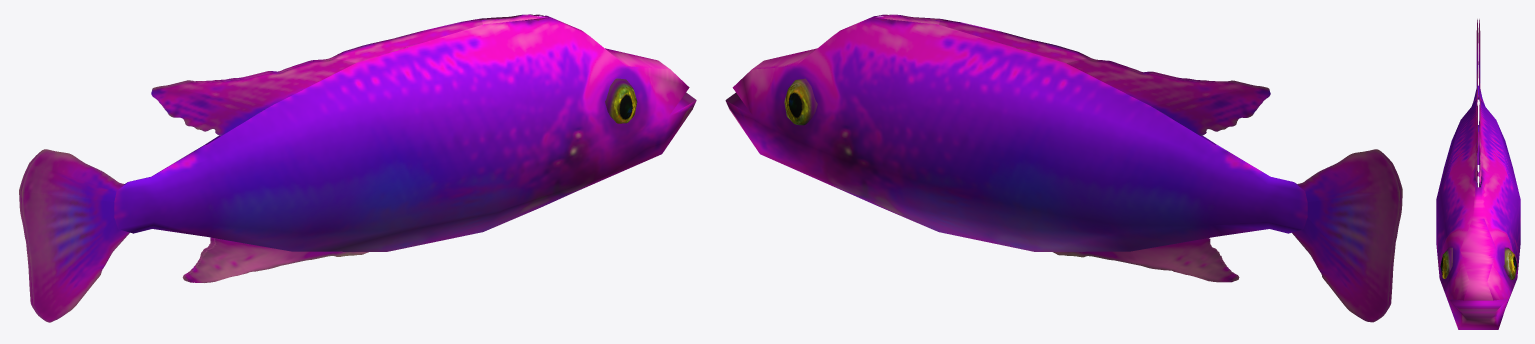
File: Fish-2.fbx
3 renders of one model, left to right at view 1: azimuth 30°, elevation 25°; view 2: azimuth 150°, elevation 25°; view 3: azimuth 270°, elevation 25°, orthographic. The views are drawn at different scales.
Parts seen in each view (by area): view 1: Cube; view 2: Cube; view 3: Cube.
Boxes of the visible parts, bbox=[...] form: Cube: bbox=[19, 14, 696, 322]; Cube: bbox=[725, 14, 1402, 322]; Cube: bbox=[1436, 19, 1520, 329].
Size of the model in its own units: 16.23 by 5.46 by 2.49.
3 materials, 3 textured.
